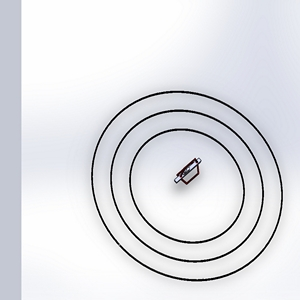circle: (85, 86, 287, 285)
submarine: (162, 154, 214, 198)
